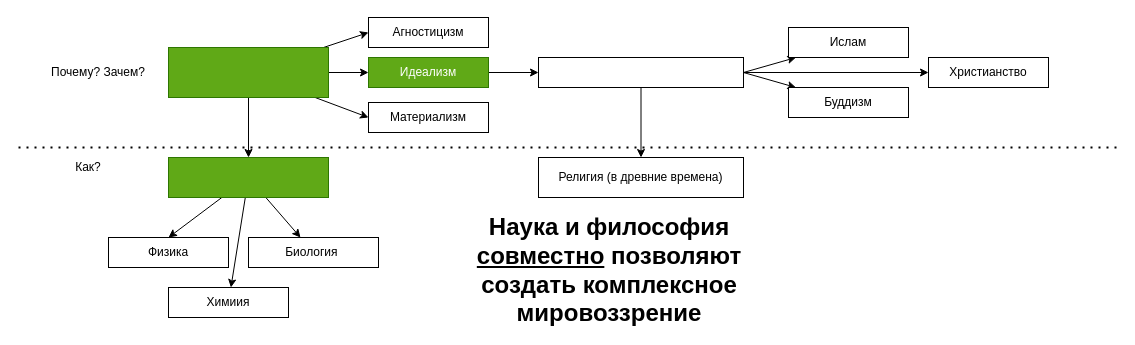
This 1135x345 diagram has some shape labels left out. Here are the shapes that lost their labels. From the top down, the box of each, then its label:
(168, 46, 328, 98): Философия
(538, 56, 744, 88): Религия
(168, 156, 328, 198): BIg History (наука)
